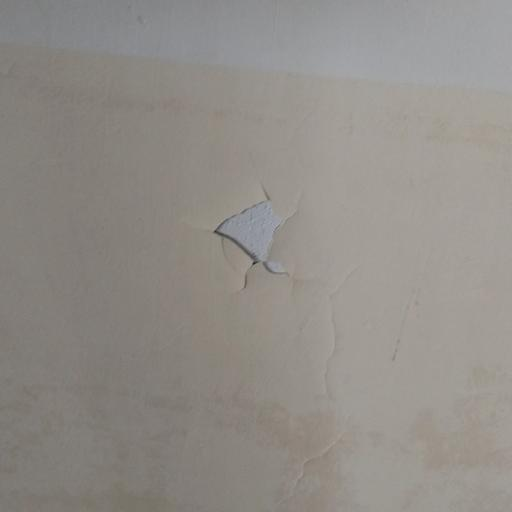peeling: (199, 181, 314, 297)
